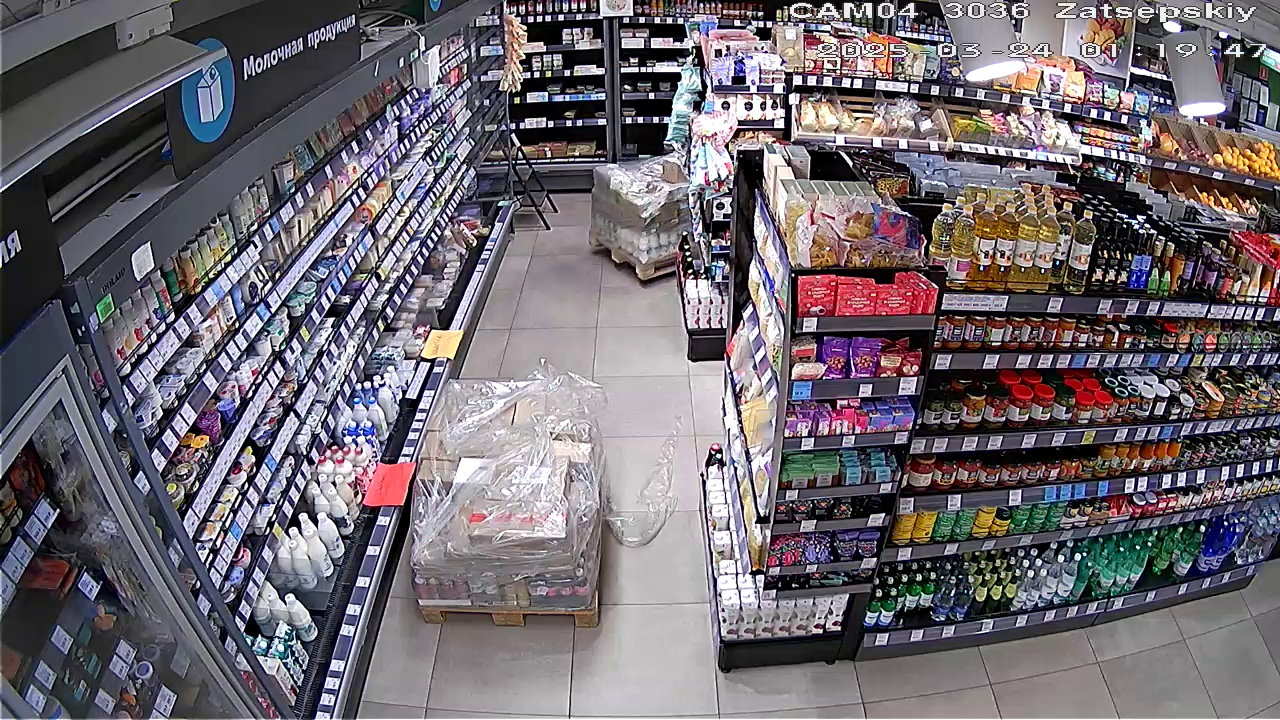pallet: (402, 379, 609, 627), (578, 142, 674, 286)
